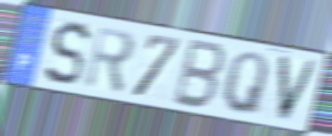7: (132, 32, 183, 100)
B: (169, 36, 230, 113)
Q: (220, 49, 271, 119)
R: (81, 23, 137, 98)
S: (42, 19, 93, 89)
V: (275, 52, 321, 126)
